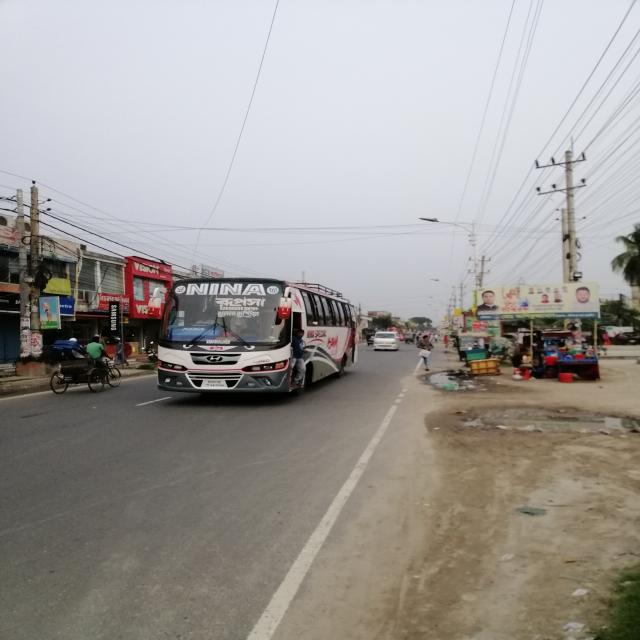Bus: (154, 277, 374, 397)
